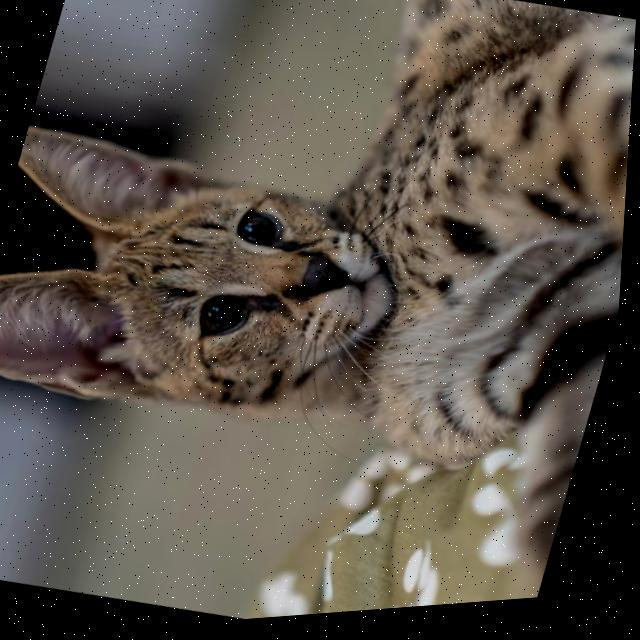Savannah: (0, 0, 640, 533)
